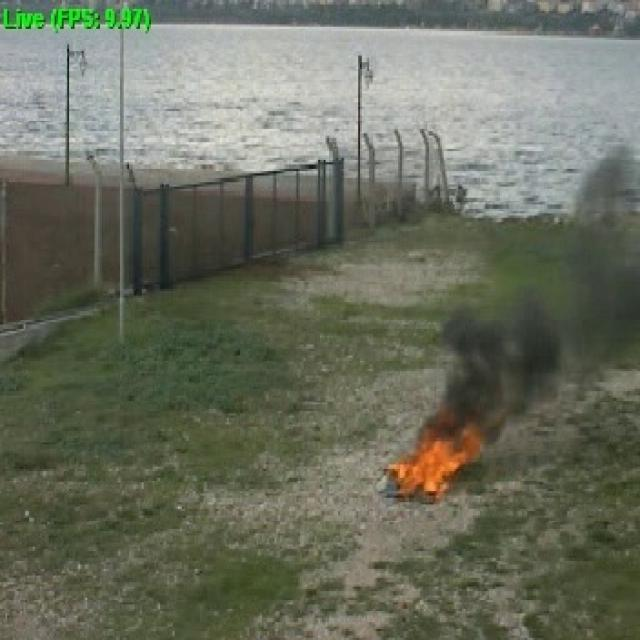fire: (363, 405, 488, 503)
